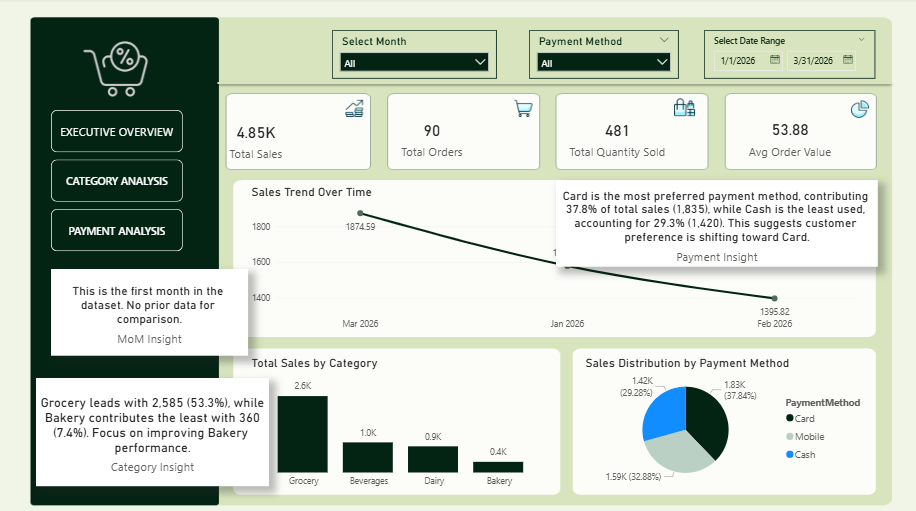

The dashboard page shown, as its layout file describes it:
{"tool":"powerbi","page":{"name":"EXECUTIVE OVERVIEW","canvas":[1280,720],"ordinal":0},"visuals":[{"type":"card","fields":{"Values":["Supermarket.Total Orders"]},"box":[528.8,150.7,153.5,87.9],"z":0},{"type":"card","fields":{"Values":["Supermarket.Total Sales"]},"box":[279.1,156.3,161.9,82.3],"z":1000},{"type":"card","fields":{"Values":["Supermarket.Total Quantity Sold"]},"box":[778.6,140.9,171.6,107.4],"z":2000},{"type":"card","fields":{"Values":["Supermarket.Avg Order Value"]},"box":[1027,149.3,156.3,89.3],"z":3000},{"type":"columnChart","title":"Total Sales by Category","fields":{"Category":["Supermarket.Category"],"Y":["Supermarket.Total Sales"]},"box":[348.8,499.5,428.4,192.6],"z":4000},{"type":"lineChart","title":"Sales Trend Over Time","fields":{"Category":["Date Table.Month Year"],"Y":["Supermarket.Total Sales"]},"box":[348.8,260.9,855.3,212.1],"z":5000},{"type":"pieChart","title":"Sales Distribution by Payment Method","fields":{"Category":["Supermarket.PaymentMethod"],"Y":["Supermarket.Total Sales"]},"box":[814.9,499.5,408.8,187],"z":6000},{"type":"slicer","fields":{"Values":["Date Table.Date"]},"box":[985.1,44.7,238.6,68.4],"z":7000},{"type":"slicer","fields":{"Values":["Supermarket.PaymentMethod"]},"box":[740.9,44.7,209.3,68.4],"z":8000},{"type":"card","fields":{"Values":["Supermarket.MoM Insight"]},"box":[74,360,274.9,121.4],"z":9000},{"type":"slicer","fields":{"Values":["Date Table.Month Year"]},"box":[466,44.7,230.2,68.4],"z":10000},{"type":"card","fields":{"Values":["Supermarket.Category Insight"]},"box":[53,520.5,325.1,150.7],"z":11000},{"type":"card","fields":{"Values":["Supermarket.Payment Insight"]},"box":[778.6,248.4,449.3,121.4],"z":12000},{"type":"pageNavigator","box":[74,156.3,184.2,199.5],"z":13001}]}

Visuals, with their boxes in screenshot pixels (x1, y1, x2, y2), scaled from the page's 1280x720 canvas onto the 916x511 screenshot:
card - Supermarket.Total Orders: select_region(378, 107, 488, 169)
card - Supermarket.Total Sales: select_region(200, 111, 316, 169)
card - Supermarket.Total Quantity Sold: select_region(557, 100, 680, 176)
card - Supermarket.Avg Order Value: select_region(735, 106, 847, 169)
"Total Sales by Category" columnChart: select_region(250, 355, 556, 491)
"Sales Trend Over Time" lineChart: select_region(250, 185, 862, 336)
"Sales Distribution by Payment Method" pieChart: select_region(583, 355, 876, 487)
slicer - Date Table.Date: select_region(705, 32, 876, 80)
slicer - Supermarket.PaymentMethod: select_region(530, 32, 680, 80)
card - Supermarket.MoM Insight: select_region(53, 256, 250, 342)
slicer - Date Table.Month Year: select_region(333, 32, 498, 80)
card - Supermarket.Category Insight: select_region(38, 369, 271, 476)
card - Supermarket.Payment Insight: select_region(557, 176, 879, 262)
pageNavigator: select_region(53, 111, 185, 253)
